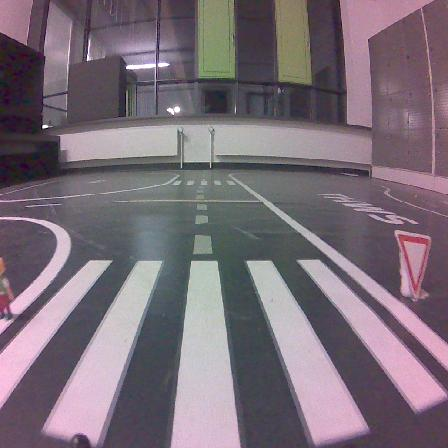CHILD: (0, 258, 13, 319)
GIVE_WAY: (394, 230, 430, 297)
